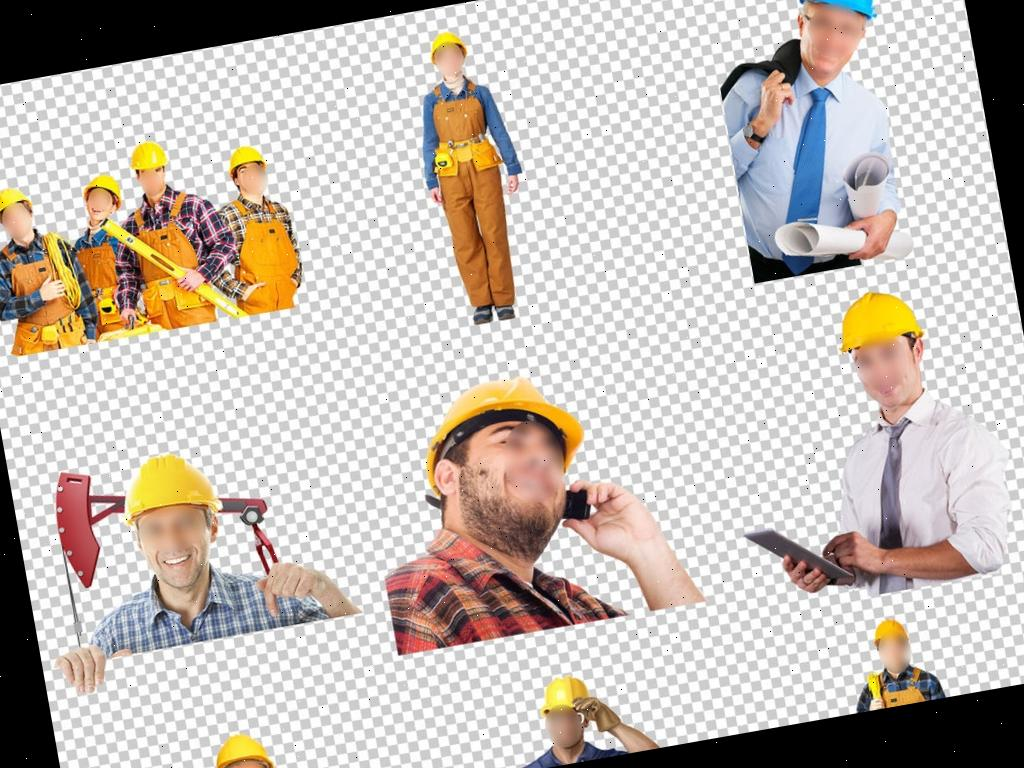helmet: (408, 354, 593, 470), (114, 443, 224, 528), (824, 279, 922, 359), (531, 669, 596, 717), (789, 0, 881, 32), (204, 727, 272, 768), (126, 136, 176, 176), (421, 24, 472, 63), (80, 167, 128, 206), (220, 141, 270, 174), (864, 612, 912, 646), (0, 182, 33, 218)
no_wear: (700, 62, 912, 275), (821, 394, 1018, 600), (82, 564, 318, 660), (386, 548, 596, 654), (96, 180, 232, 336), (216, 190, 304, 321), (0, 232, 92, 348), (411, 71, 500, 178), (856, 661, 944, 712)
